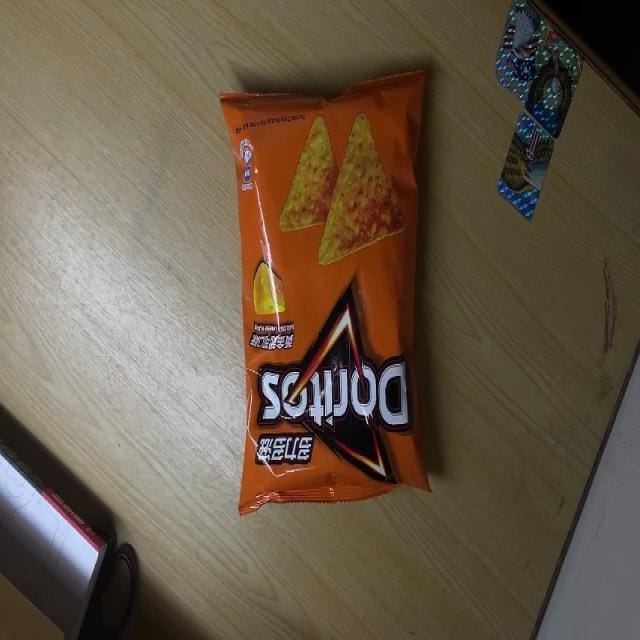Doritos: (218, 67, 432, 517)
